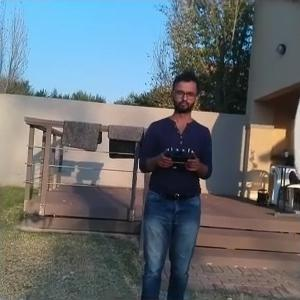follow: (131, 64, 216, 298)
